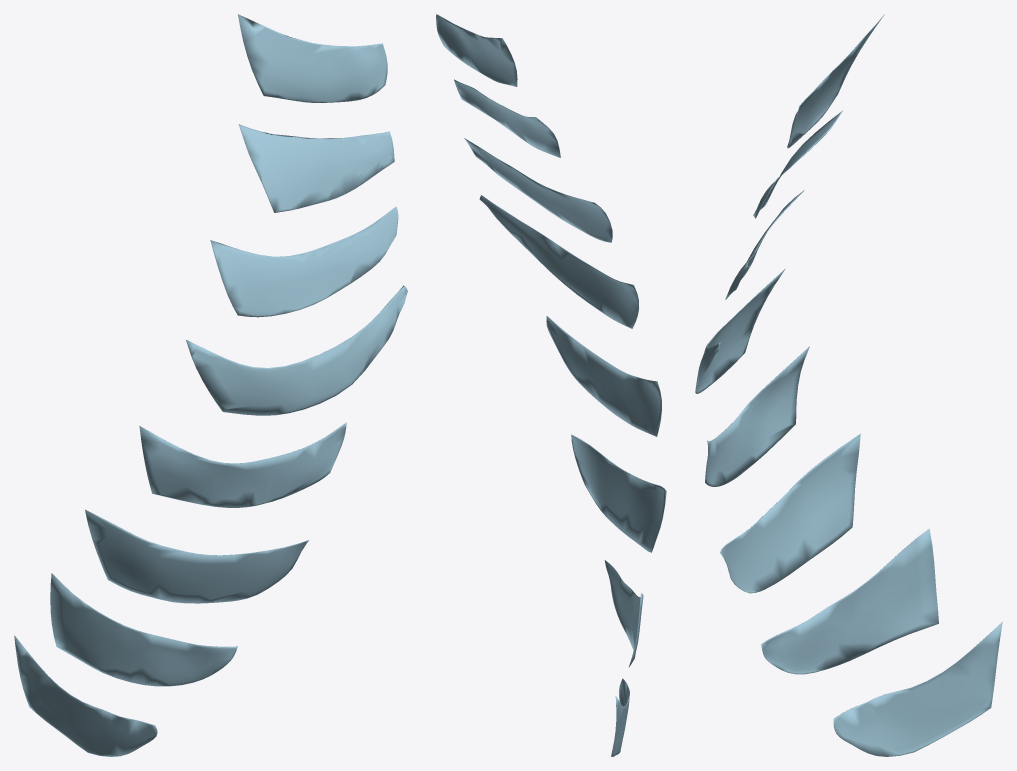
The model's file is articulacoes-external-intercostal-membrane-r.glb.
The picture shows the model from 3 angles, left to right: view 1: azimuth 30°, elevation 25°; view 2: azimuth 150°, elevation 25°; view 3: azimuth 270°, elevation 25°; orthographic projection. The views are drawn at different scales.
Visible parts, largest first — view 1: External intercostal membrane.r; view 2: External intercostal membrane.r; view 3: External intercostal membrane.r.
Part boxes in pixels (x1=…): External intercostal membrane.r: x1=14, y1=14, x2=407, y2=756; External intercostal membrane.r: x1=436, y1=14, x2=666, y2=756; External intercostal membrane.r: x1=695, y1=14, x2=1002, y2=756.
Bounding box in the file's own units: 0.1142 × 0.2772 × 0.0948.
